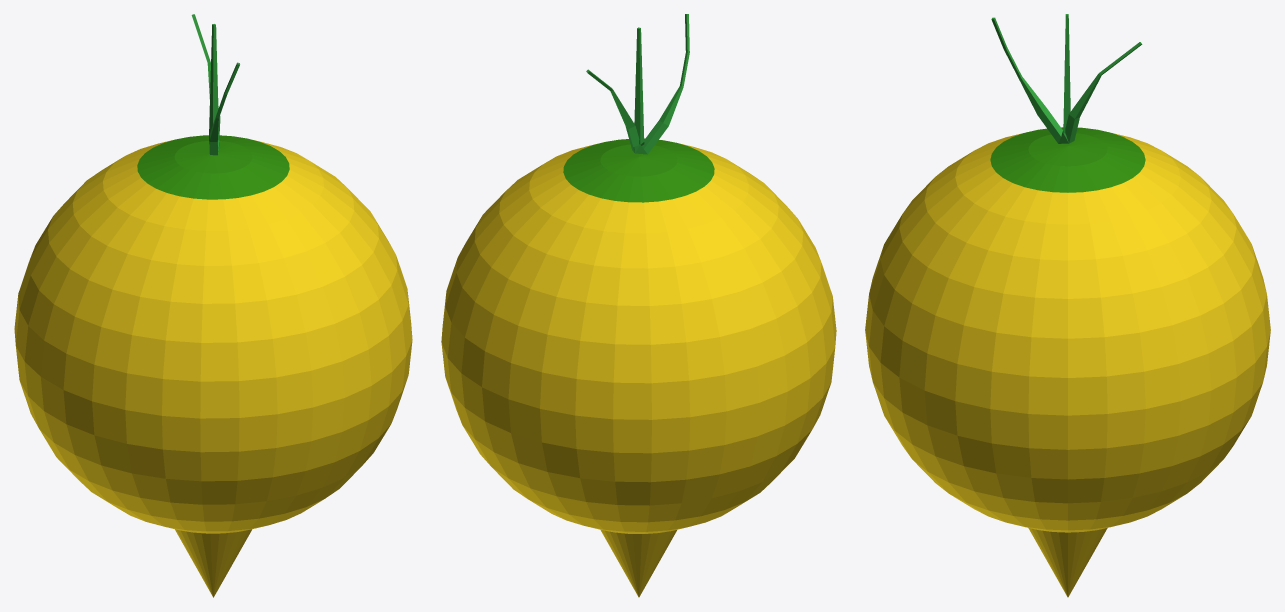
File: grepa.fbx
The picture shows the model from 3 angles, left to right: view 1: azimuth 30°, elevation 25°; view 2: azimuth 150°, elevation 25°; view 3: azimuth 270°, elevation 25°; orthographic projection. The views are drawn at different scales.
Parts seen in each view (by area): view 1: Sphere.024, Cone.001, Cube.007; view 2: Sphere.024, Cube.007, Cone.001; view 3: Sphere.024, Cube.007, Cone.001.
Part boxes in pixels (x1,y1,x2,y2): Sphere.024: (14,135,412,533); Cone.001: (175,529,251,597); Cube.007: (191,14,239,155); Sphere.024: (441,138,836,533); Cube.007: (586,14,689,154); Cone.001: (600,530,676,597); Sphere.024: (865,127,1270,532); Cube.007: (991,14,1142,143); Cone.001: (1028,528,1107,597).
Size of the model in its own units: 126 by 201 by 126.
